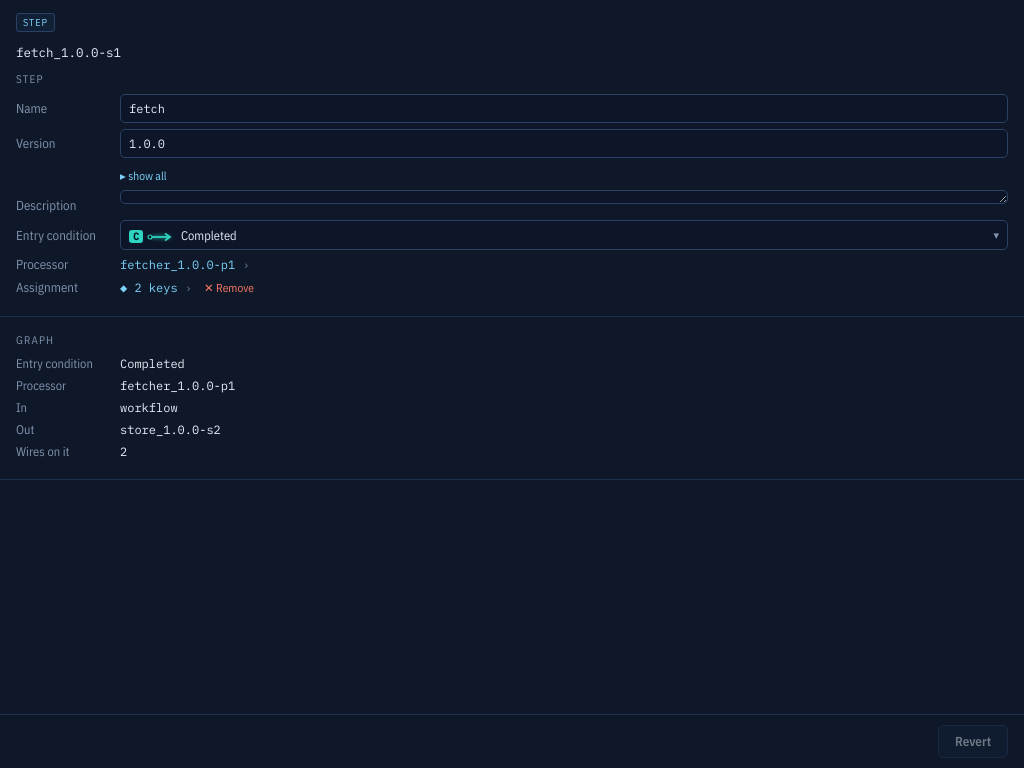
Test: Inspector editing (plan 8 §3.3: the design, never BaseApi) › the step row drills into its assignment, and ✕ Remove takes it off in the design only
The image size is (1024, 768).
Click the button "◆ 2 keys" at (156, 288), box 120,280 -> 192,295
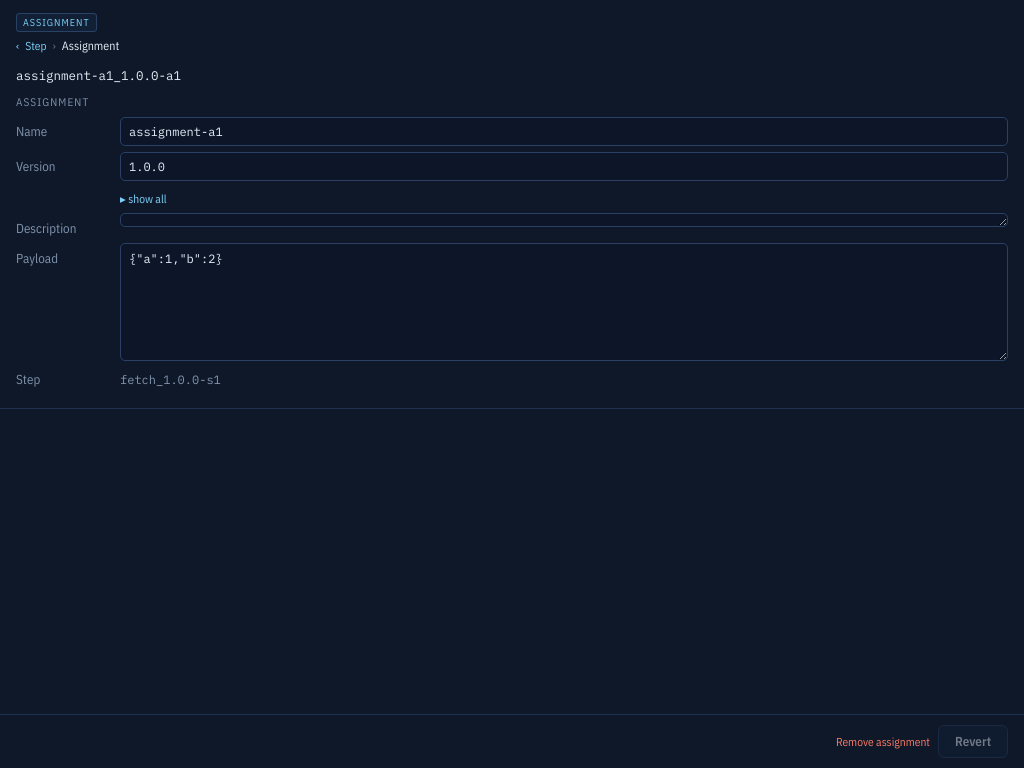
Expected: the text "ASSIGNMENT" is shown, 16,13 -> 97,32
Click the button "Step" at (36, 46), box 25,38 -> 47,53
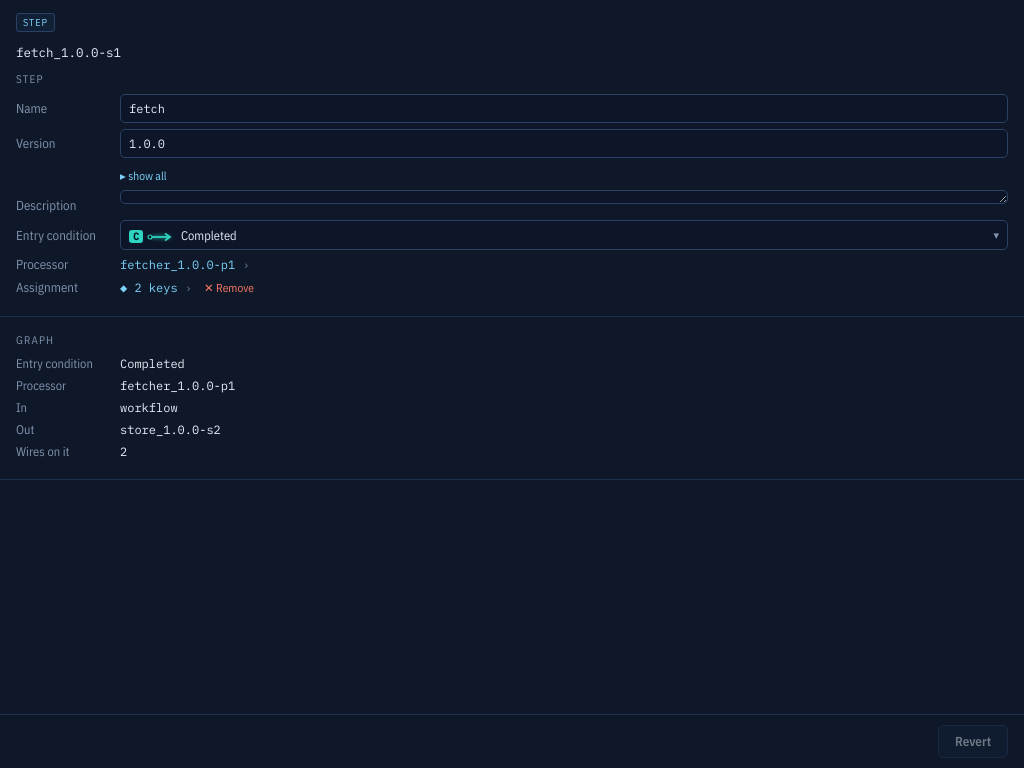
Click the button "✕ Remove" at (229, 288), box 204,280 -> 254,295
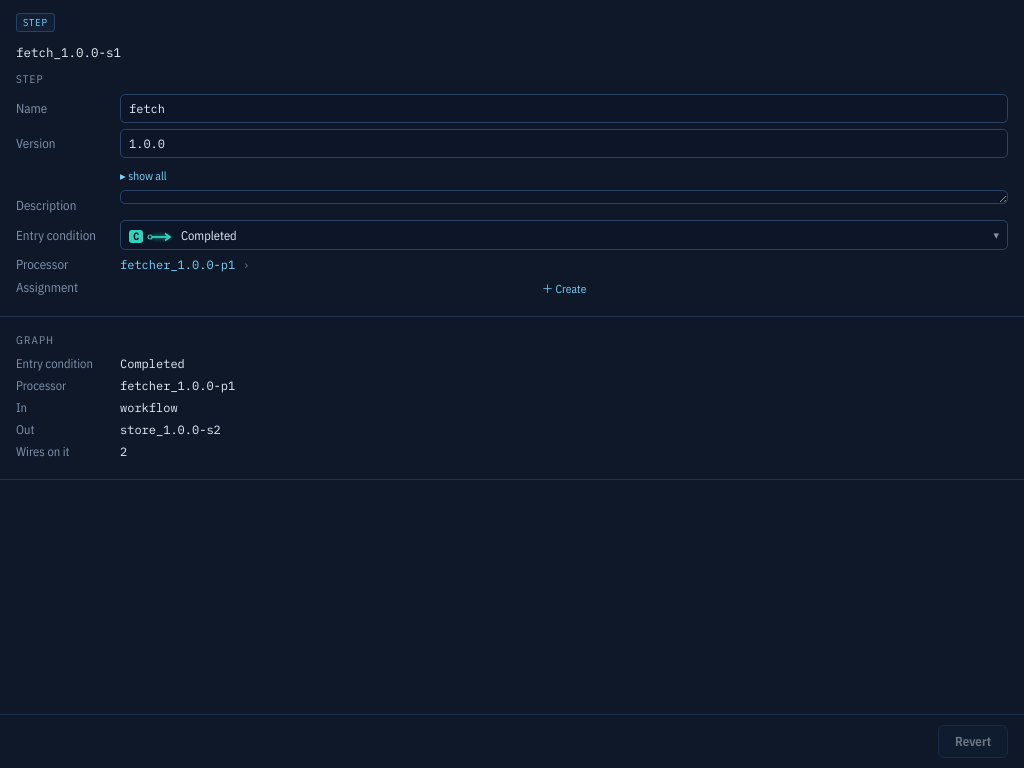
Expected: the button "＋ Create" is shown, 120,280 -> 1008,296
